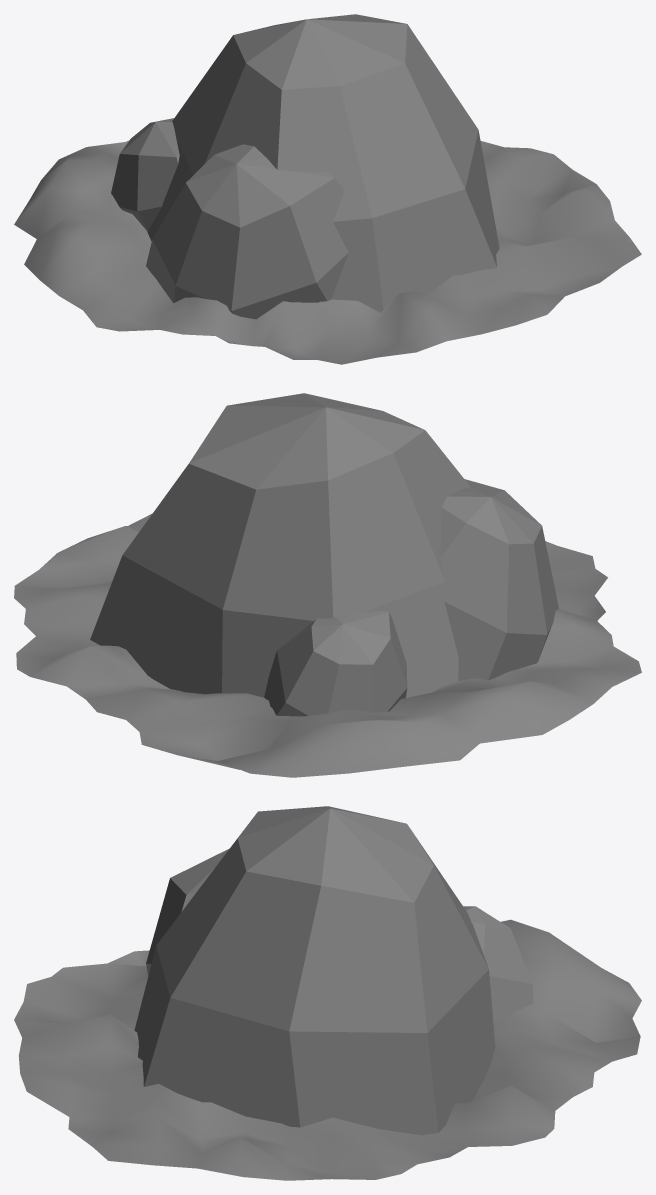
Rendered from rochergrisfonce.FBX.
3 renders of one model, top to bottom at view 1: azimuth 30°, elevation 25°; view 2: azimuth 150°, elevation 25°; view 3: azimuth 270°, elevation 25°, orthographic. The views are drawn at different scales.
Visible parts, largest first — view 1: Box001, Plane001, Box002, Box003; view 2: Box001, Plane001, Box002, Box003; view 3: Box001, Plane001, Box003, Box002.
Boxes of the visible parts, <box> form: Box001: <box>147,14,499,312</box>; Plane001: <box>14,140,641,364</box>; Box002: <box>146,144,348,319</box>; Box003: <box>111,118,179,230</box>; Box001: <box>90,393,470,697</box>; Plane001: <box>14,513,641,777</box>; Box002: <box>440,479,558,681</box>; Box003: <box>264,610,407,716</box>; Box001: <box>134,806,495,1135</box>; Plane001: <box>14,919,641,1180</box>; Box003: <box>463,906,533,1022</box>; Box002: <box>146,848,229,975</box>.
Bounding box in the file's own units: 96.15 × 43.58 × 93.51.
